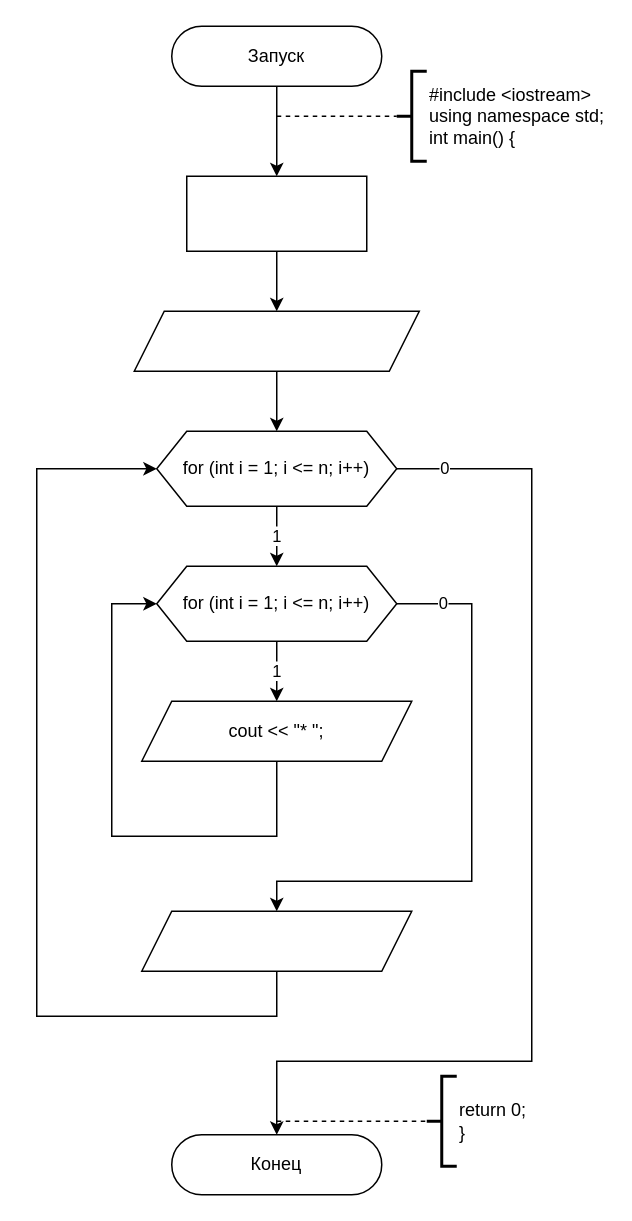
This 632x1221 diagram has some shape labels left out. The centre of each missing label's shape, as x and y in pixels:
cin >> n;: (276,340)
cout << endl;: (276,940)
int n;: (276,213)
